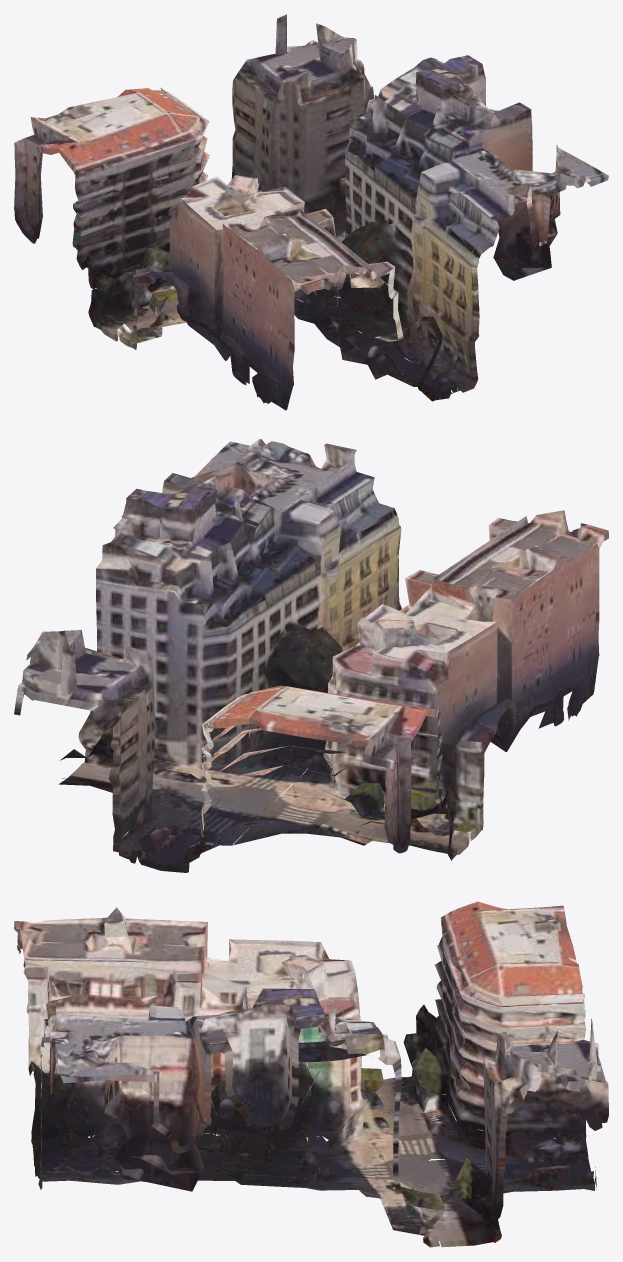
The picture shows the model from 3 angles, top to bottom: view 1: azimuth 30°, elevation 25°; view 2: azimuth 150°, elevation 25°; view 3: azimuth 270°, elevation 25°; orthographic projection. The views are drawn at different scales.
Visible parts, largest first — view 1: Mesh_0; view 2: Mesh_0; view 3: Mesh_0.
Boxes of the visible parts, x1,y1,x2,y2 form: Mesh_0: (14, 14, 608, 410); Mesh_0: (14, 439, 608, 872); Mesh_0: (14, 901, 608, 1247).
Bounding box in the file's own units: 66.58 × 38.06 × 82.48.
Materials: 1 (1 with a texture image).
